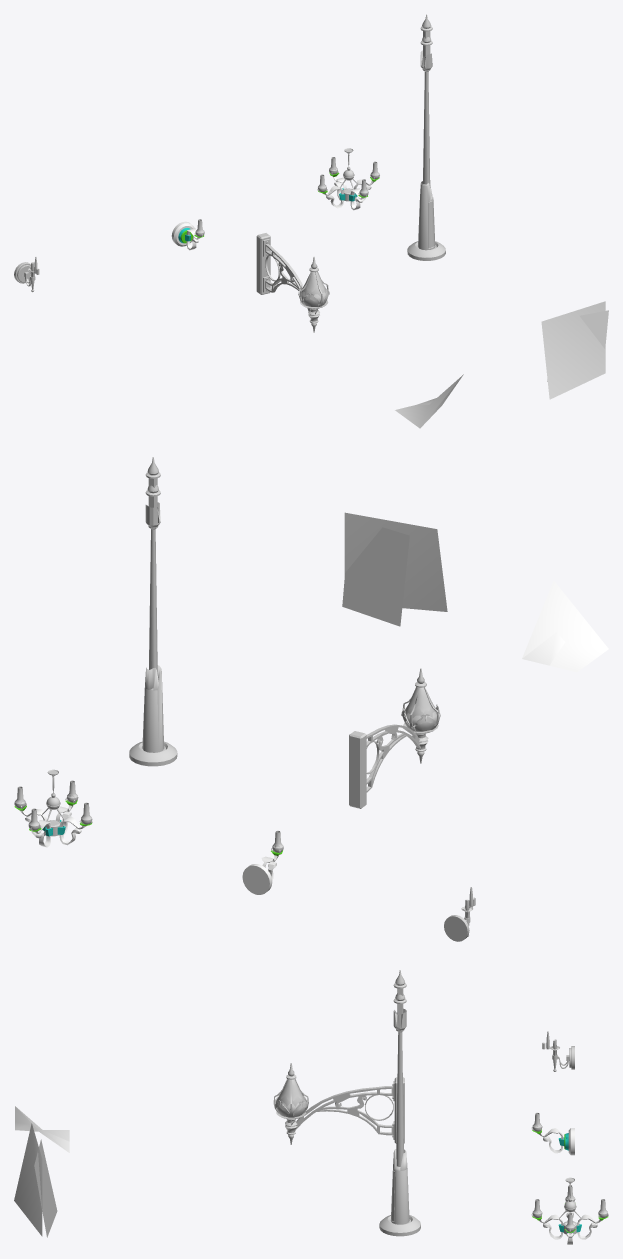
The model's file is DecoMisc00.fbx.
3 views of the same model, one above another, from view 1: azimuth 30°, elevation 25°; view 2: azimuth 150°, elevation 25°; view 3: azimuth 270°, elevation 25° (orthographic). The views are drawn at different scales.
Visible parts, largest first — view 1: Plane003, Cylinder014, Cylinder010, Box005, Plane002, Box011, Box004, Cylinder003; view 2: Plane003, Plane002, Cylinder014, Cylinder010, Box004, Box011, Box005, Cylinder009, Cylinder003, Cylinder015, GeoSphere001, Plane001 (+1 smaller); view 3: Plane003, Cylinder010, Box005, Cylinder014, Cylinder003, Cylinder009, Box011, GeoSphere001, Plane001, Box003, Sphere006.
Boxes of the visible parts, x1,y1,x2,y2 form: Plane003: (541, 301, 608, 399); Cylinder014: (418, 36, 432, 250); Cylinder010: (420, 14, 435, 249); Box005: (263, 239, 310, 311); Plane002: (395, 374, 463, 428); Box011: (318, 172, 379, 210); Box004: (256, 233, 270, 294); Cylinder003: (298, 256, 329, 332); Plane003: (342, 512, 447, 626); Plane002: (522, 580, 608, 672); Cylinder014: (145, 485, 164, 752); Cylinder010: (142, 457, 160, 752); Box004: (349, 731, 366, 808); Box011: (14, 800, 91, 847); Box005: (366, 724, 420, 792); Cylinder009: (129, 741, 177, 766); Cylinder003: (401, 668, 440, 763); Cylinder015: (242, 864, 272, 894); GeoSphere001: (404, 687, 436, 731); Plane001: (522, 632, 565, 665); Plane003: (14, 1123, 57, 1237); Cylinder010: (391, 970, 409, 1224); Box005: (294, 1081, 394, 1139); Cylinder014: (393, 993, 407, 1170); Cylinder003: (273, 1063, 308, 1144); Cylinder009: (379, 1215, 420, 1236); Box011: (532, 1210, 608, 1244); GeoSphere001: (276, 1079, 306, 1117); Plane001: (15, 1106, 69, 1152); Box003: (295, 1086, 394, 1134); Sphere006: (532, 1185, 607, 1231).
Size of what is drawn, in the model's own units: 65.52 by 43.3 by 86.
